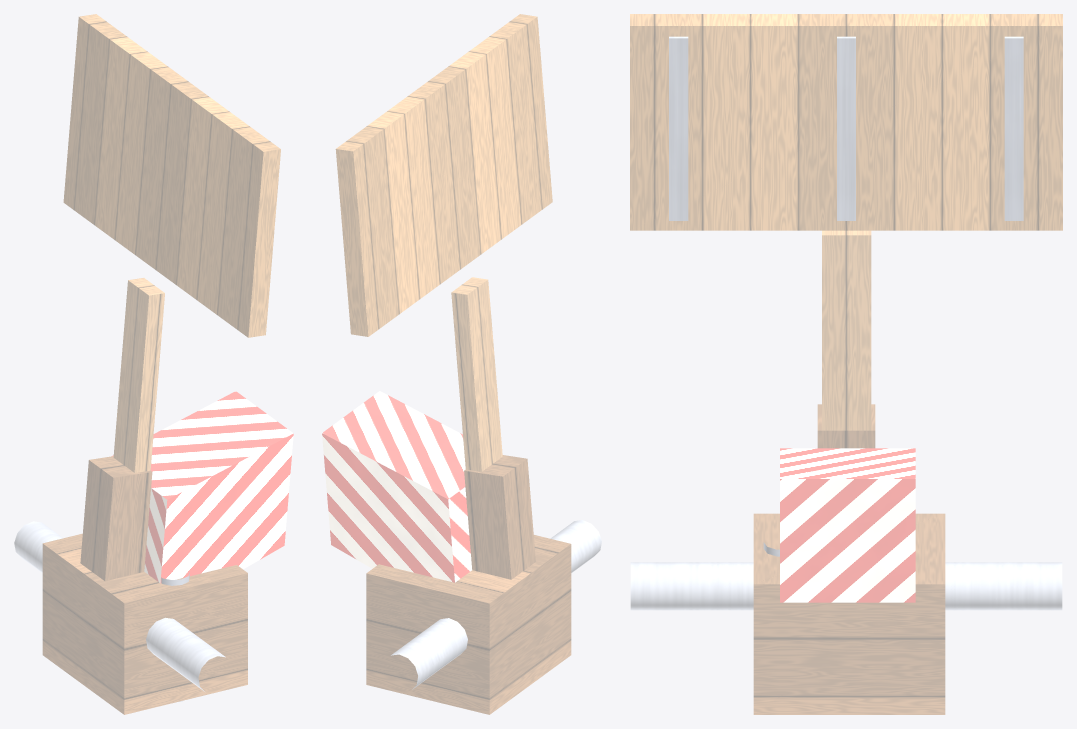
Rendered from level.gltf.
The picture shows the model from 3 angles, left to right: view 1: azimuth 30°, elevation 25°; view 2: azimuth 150°, elevation 25°; view 3: azimuth 270°, elevation 25°; orthographic projection. The views are drawn at different scales.
Parts seen in each view (by area): view 1: P_Modul_37_Bridge, P_Modul_37_Hinge; view 2: P_Modul_37_Bridge, P_Modul_37_Hinge; view 3: P_Modul_37_Bridge, P_Modul_37_Hinge.
Part boxes in pixels (x1=…): P_Modul_37_Bridge: x1=14, y1=14, x2=293, y2=691; P_Modul_37_Hinge: x1=42, y1=533, x2=247, y2=714; P_Modul_37_Bridge: x1=322, y1=14, x2=601, y2=689; P_Modul_37_Hinge: x1=366, y1=535, x2=571, y2=714; P_Modul_37_Bridge: x1=630, y1=14, x2=1062, y2=610; P_Modul_37_Hinge: x1=753, y1=513, x2=945, y2=714.
Size of the model in its own units: 5.1 by 15.78 by 9.03.
6 materials, 6 textured.
